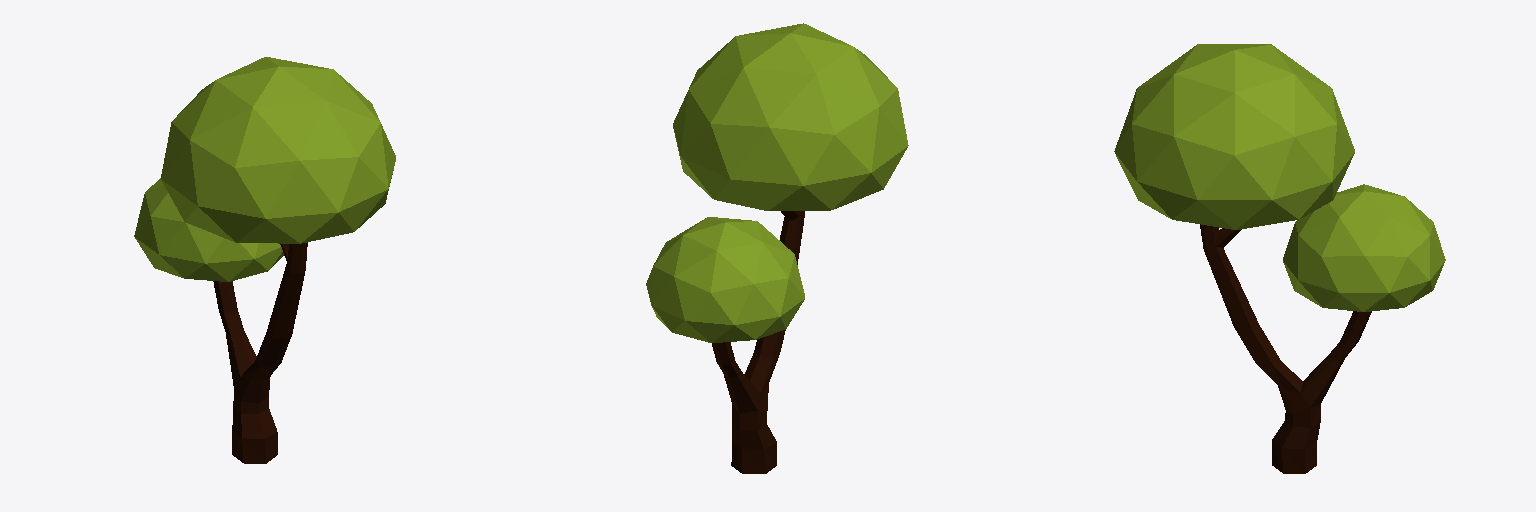
Rendered from Tree1.obj.
3 renders of one model, left to right at view 1: azimuth 30°, elevation 25°; view 2: azimuth 150°, elevation 25°; view 3: azimuth 270°, elevation 25°, orthographic.
Visible parts, largest first — view 1: Tree1_Icosphere.002; view 2: Tree1_Icosphere.002; view 3: Tree1_Icosphere.002.
Part boxes in pixels (x1,y1,x2,y2): Tree1_Icosphere.002: (134,57,395,463); Tree1_Icosphere.002: (646,23,908,473); Tree1_Icosphere.002: (1114,44,1445,473).
Size of the model in its own units: 2.07 by 4.1 by 2.99.